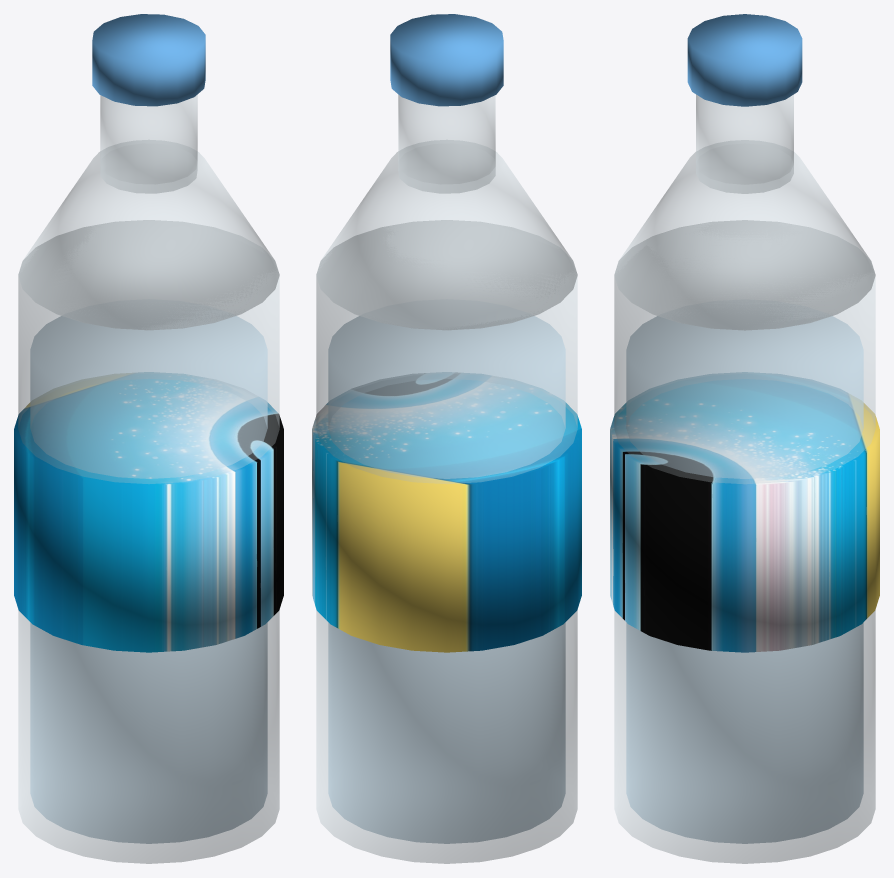
Rendered from prop_water.glb.
3 views of the same model, side by side, from view 1: azimuth 30°, elevation 25°; view 2: azimuth 150°, elevation 25°; view 3: azimuth 270°, elevation 25° (orthographic).
Visible parts, largest first — view 1: prop_water; view 2: prop_water; view 3: prop_water.
Boxes of the visible parts, bbox=[...] form: prop_water: bbox=[14, 14, 283, 863]; prop_water: bbox=[312, 14, 581, 863]; prop_water: bbox=[610, 14, 879, 863].
Bounding box in the file's own units: 0.066 × 0.208 × 0.066.
4 materials, 1 textured.
